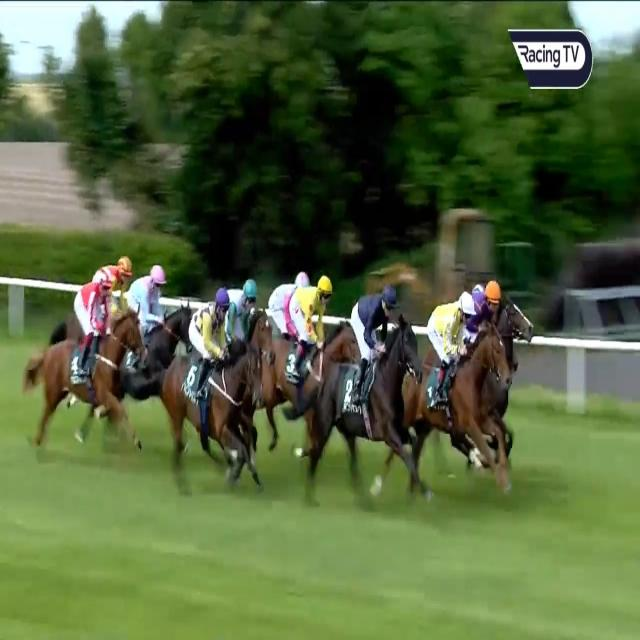horses-racing: (308, 280, 428, 491), (405, 284, 512, 491), (29, 275, 147, 460), (161, 296, 266, 479), (266, 282, 342, 406), (130, 262, 194, 361), (464, 276, 530, 364), (85, 252, 142, 344), (212, 270, 264, 347), (264, 262, 308, 330)
